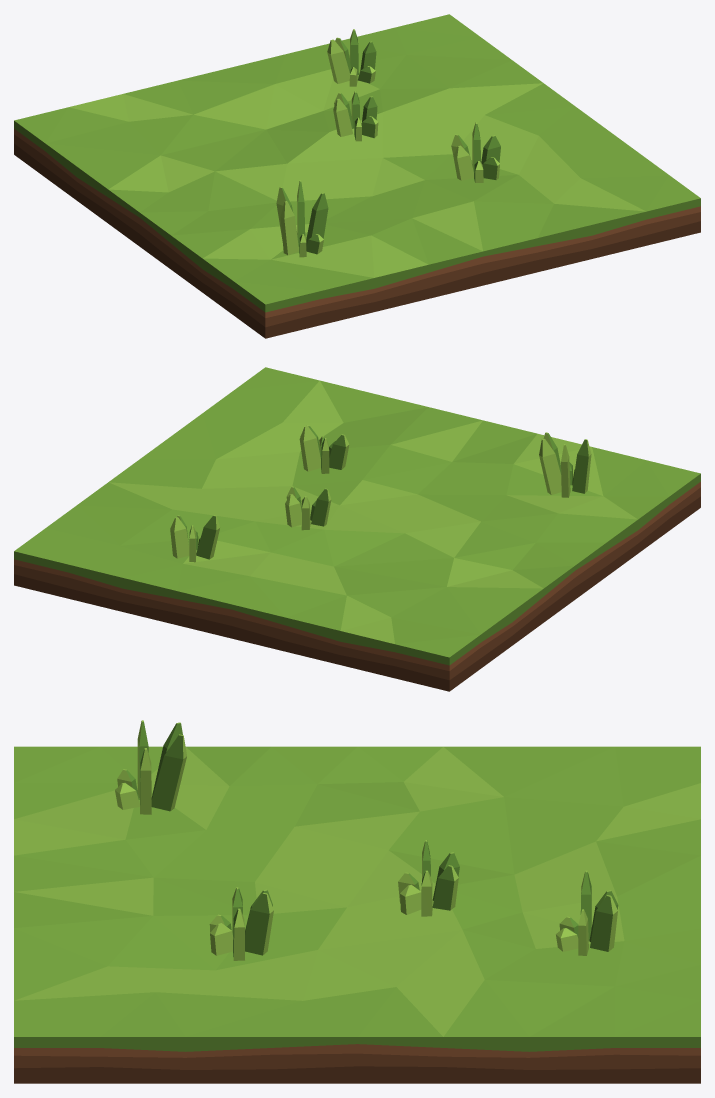
File: FMS_Ground_Grass_4x4.fbx
The picture shows the model from 3 angles, top to bottom: view 1: azimuth 30°, elevation 25°; view 2: azimuth 150°, elevation 25°; view 3: azimuth 270°, elevation 25°; orthographic projection. The views are drawn at different scales.
Visible parts, largest first — view 1: FMS_Ground_Grass_4x4; view 2: FMS_Ground_Grass_4x4; view 3: FMS_Ground_Grass_4x4.
Boxes of the visible parts, <box> form: FMS_Ground_Grass_4x4: <box>14,14,700,338</box>; FMS_Ground_Grass_4x4: <box>14,367,700,691</box>; FMS_Ground_Grass_4x4: <box>14,720,700,1083</box>.
Bounding box in the file's own units: 4 × 0.7865 × 4.
